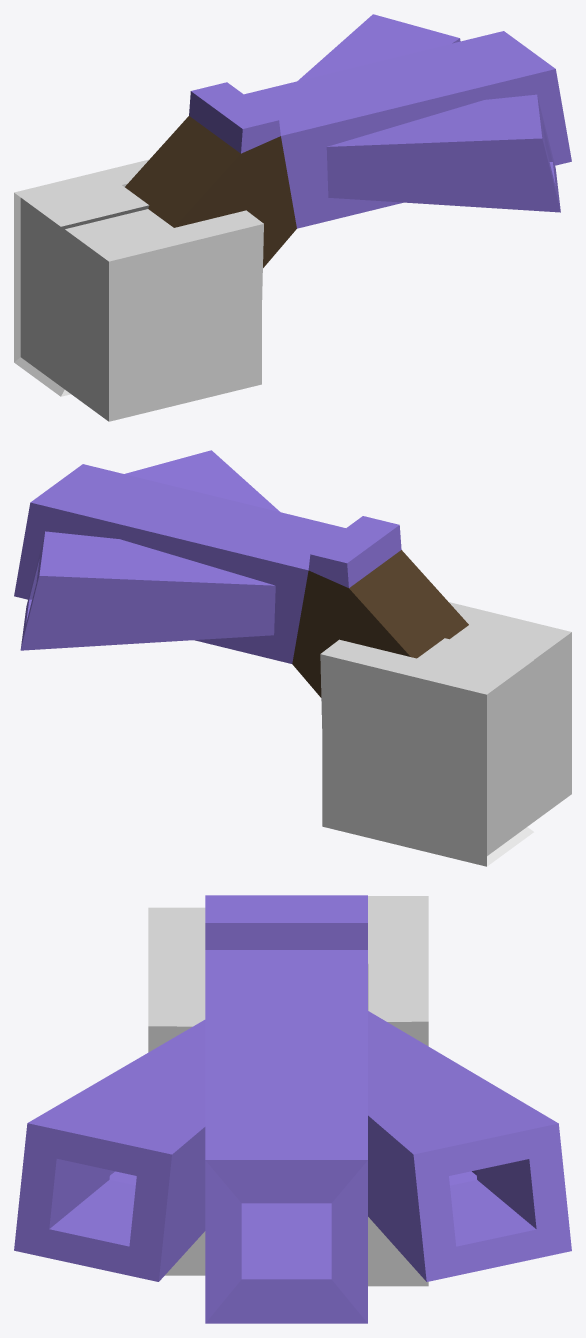
The model's file is Gun_TripleShot.fbx.
3 views of the same model, one above another, from view 1: azimuth 30°, elevation 25°; view 2: azimuth 150°, elevation 25°; view 3: azimuth 270°, elevation 25° (orthographic). The views are drawn at different scales.
Parts seen in each view (by area): view 1: Cube.001; view 2: Cube.001; view 3: Cube.001.
Part boxes in pixels (x1,y1,x2,y2): Cube.001: [14, 14, 571, 421]; Cube.001: [14, 450, 571, 866]; Cube.001: [14, 895, 571, 1323].
Size of the model in its own units: 199 by 96.76 by 126.
